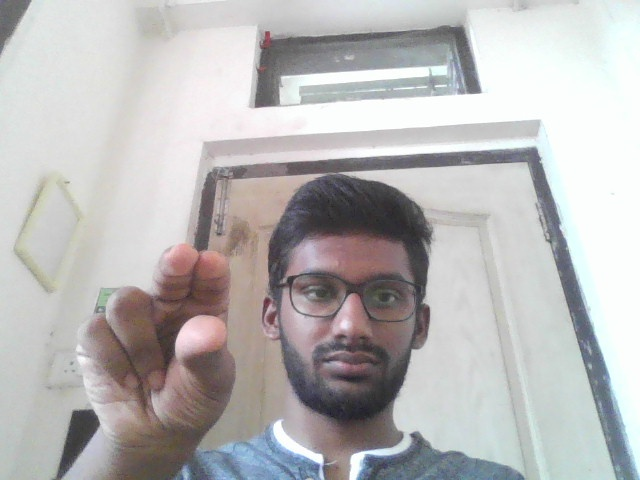No: (73, 244, 240, 444)
